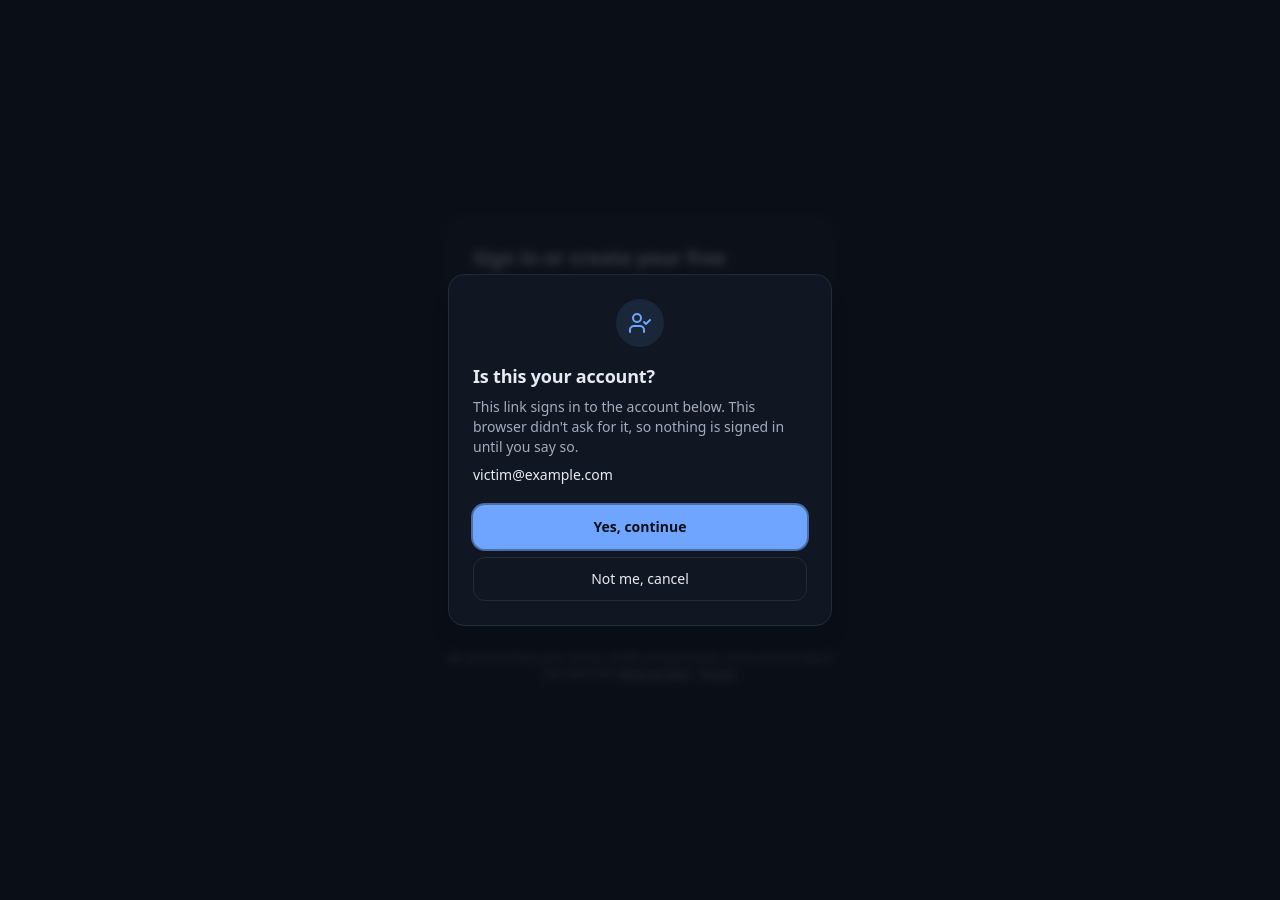
Test case: a session that arrives in the URL (login-CSRF protection) › without the pending marker it is not adopted: the prompt names the auth server's account, and 'Not me' discards it
The image size is (1280, 900).
Check: the dialog shows "Is this your account?", box [473, 364, 655, 388]
Check: the text with test id "link-check-email" reads "victim@example.com", box [473, 465, 613, 484]
What coordinates should you click on to do the following:
click the button "Not me, cancel"
I would click on:
 (640, 579)
Its box is [473, 557, 807, 601].
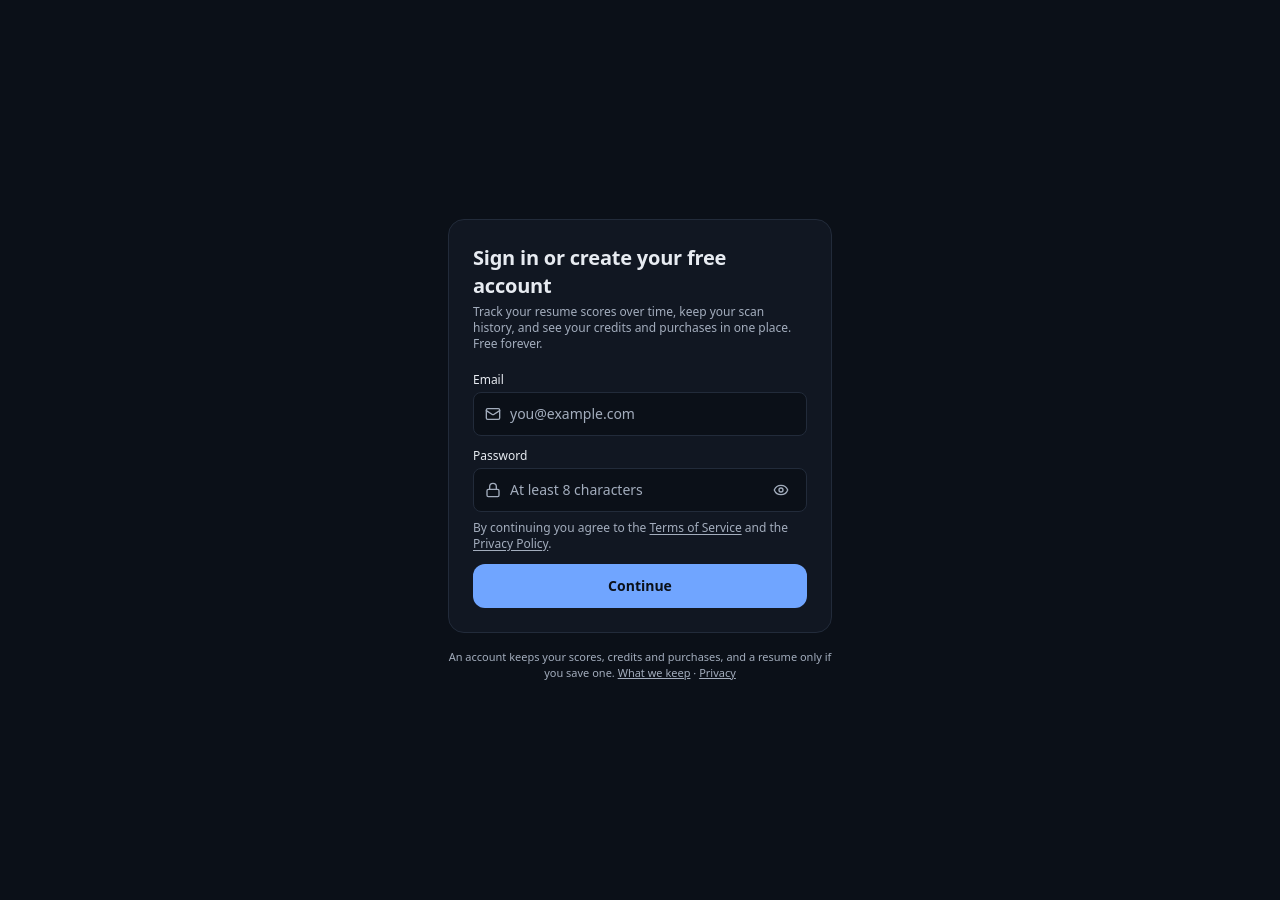
Check: the dialog is gone
